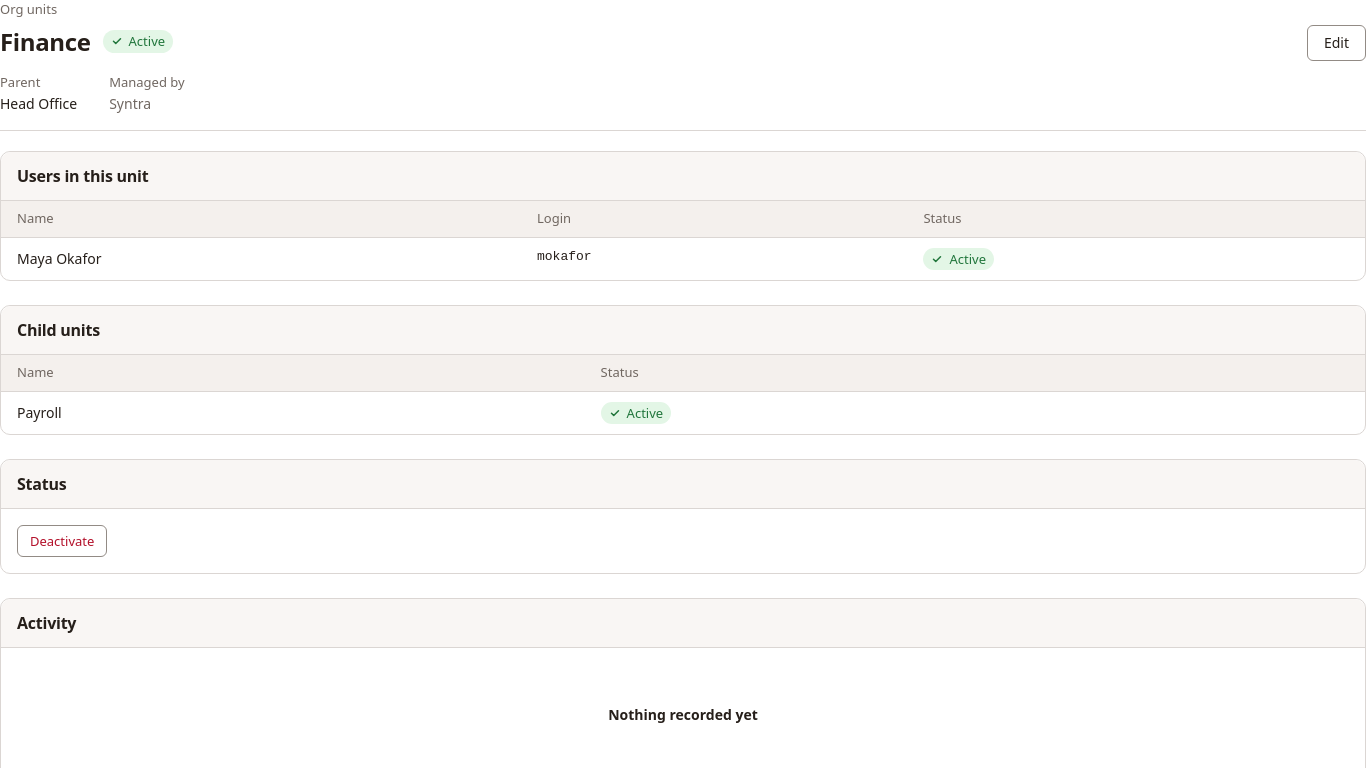
Test: OrgUnitDetailPage › status › says what deactivating the unit does to the people in it
The width and height of the screenshot is (1366, 768).
Click the button "Deactivate".
click(62, 541)  # box [17,525,107,557]
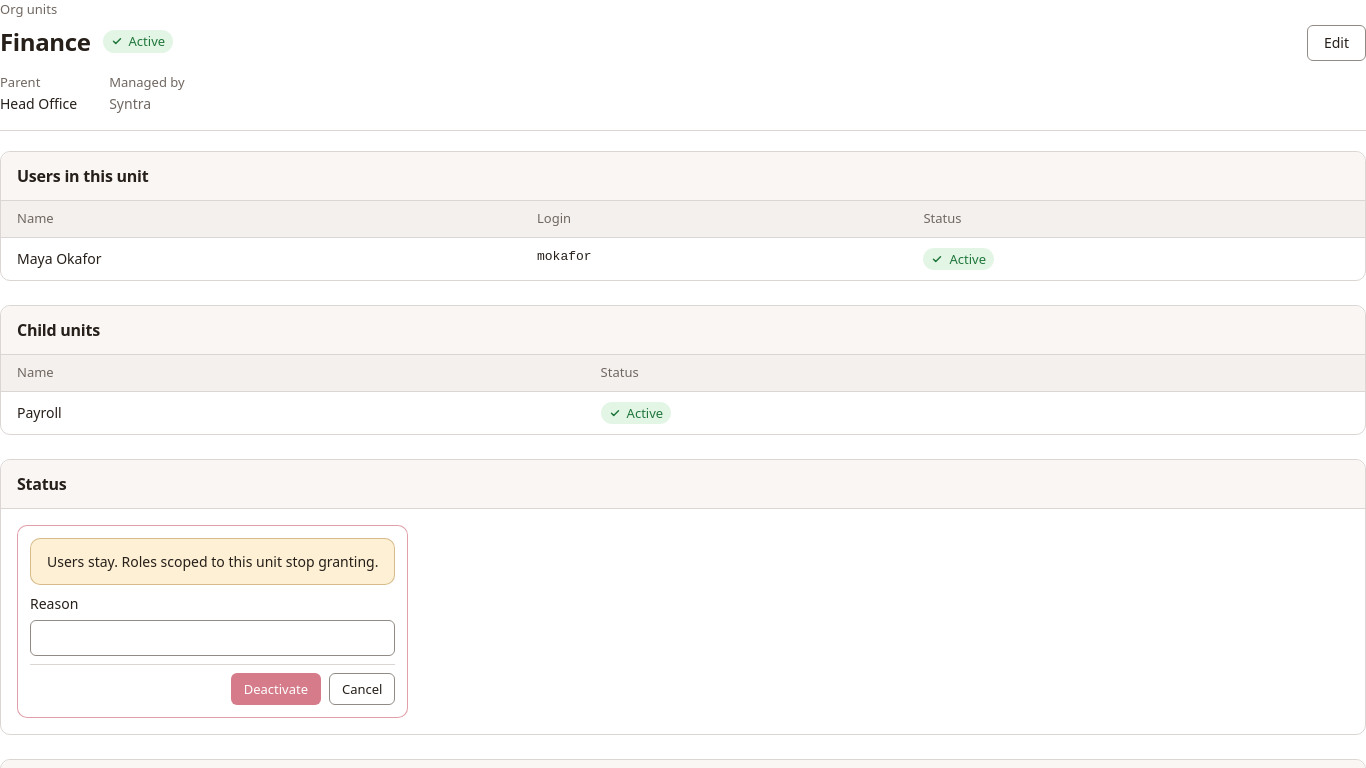
Now the text "Users stay. Roles scoped to this unit stop granting." is shown, box [47,551,378,572]
